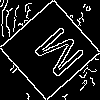M: (25, 25, 87, 86)
